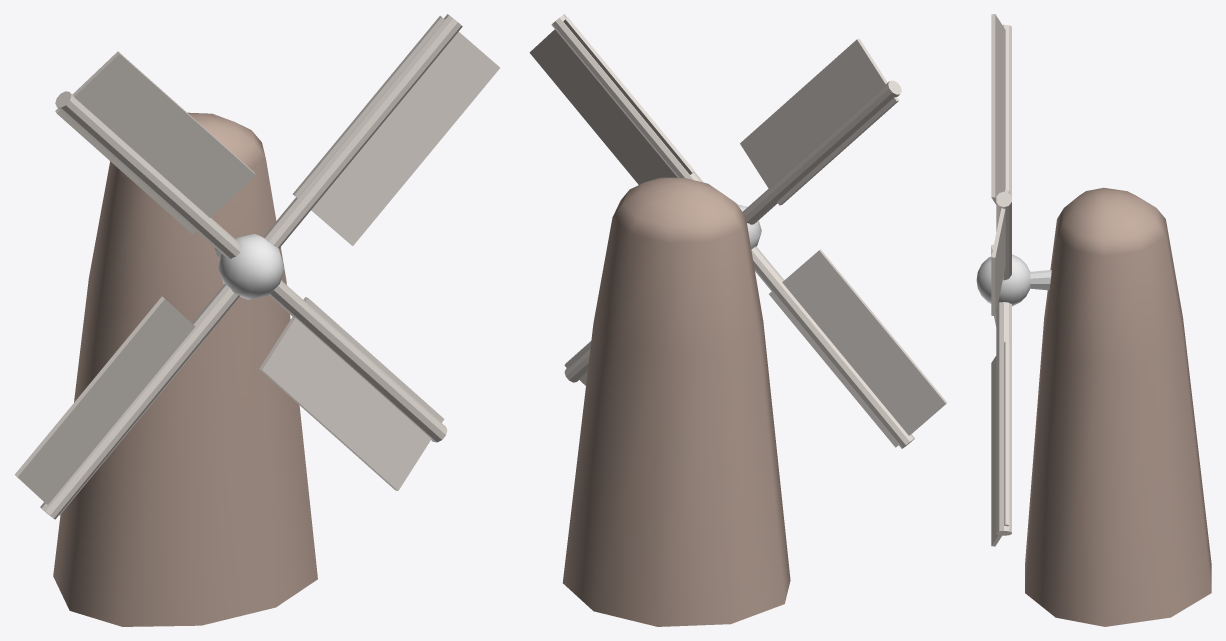
The model's file is fan.fbx.
3 renders of one model, left to right at view 1: azimuth 30°, elevation 25°; view 2: azimuth 150°, elevation 25°; view 3: azimuth 270°, elevation 25°, orthographic. The views are drawn at different scales.
Parts seen in each view (by area): view 1: pSphere2, pCube5, pSphere1; view 2: pSphere2, pCube5; view 3: pSphere2, pCube5, pSphere1.
Boxes of the visible parts, box(x1,y1,x2,y2) form: pSphere2: box(53, 112, 317, 626); pCube5: box(14, 14, 499, 519); pSphere1: box(214, 234, 284, 299); pSphere2: box(562, 177, 790, 626); pCube5: box(529, 14, 947, 448); pSphere2: box(1025, 187, 1211, 626); pCube5: box(991, 14, 1011, 546); pSphere1: box(976, 254, 1051, 306).
Bounding box in the file's own units: 11.29 × 13.65 × 5.72.
